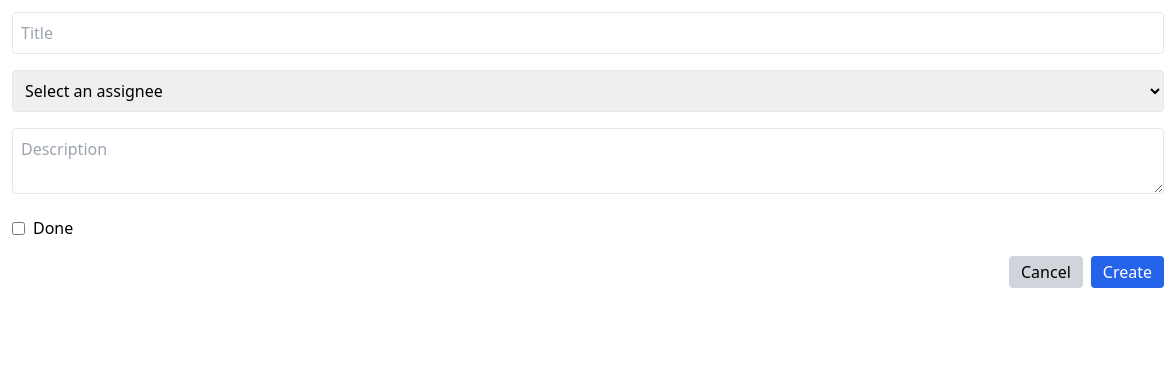
Test: TaskForm › shows validation errors on submit with empty fields
The image size is (1176, 377).
Click the button "Create": (1127, 272) top-left (1091, 256), bottom-right (1164, 288)
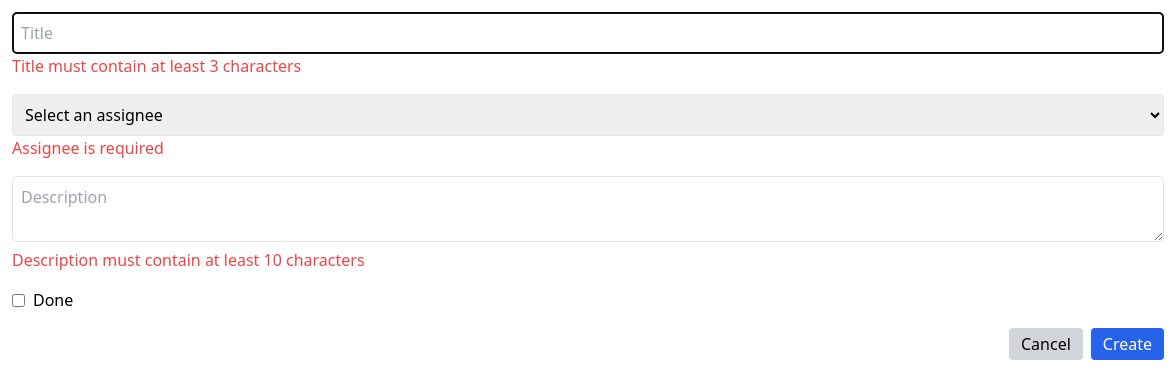
Now the text "Title must contain at least 3 characters" is shown, box top-left (12, 55), bottom-right (301, 77)
Now the text "Description must contain at least 10 characters" is shown, box top-left (12, 249), bottom-right (364, 271)
Now the text "Assignee is required" is shown, box top-left (12, 137), bottom-right (164, 159)
